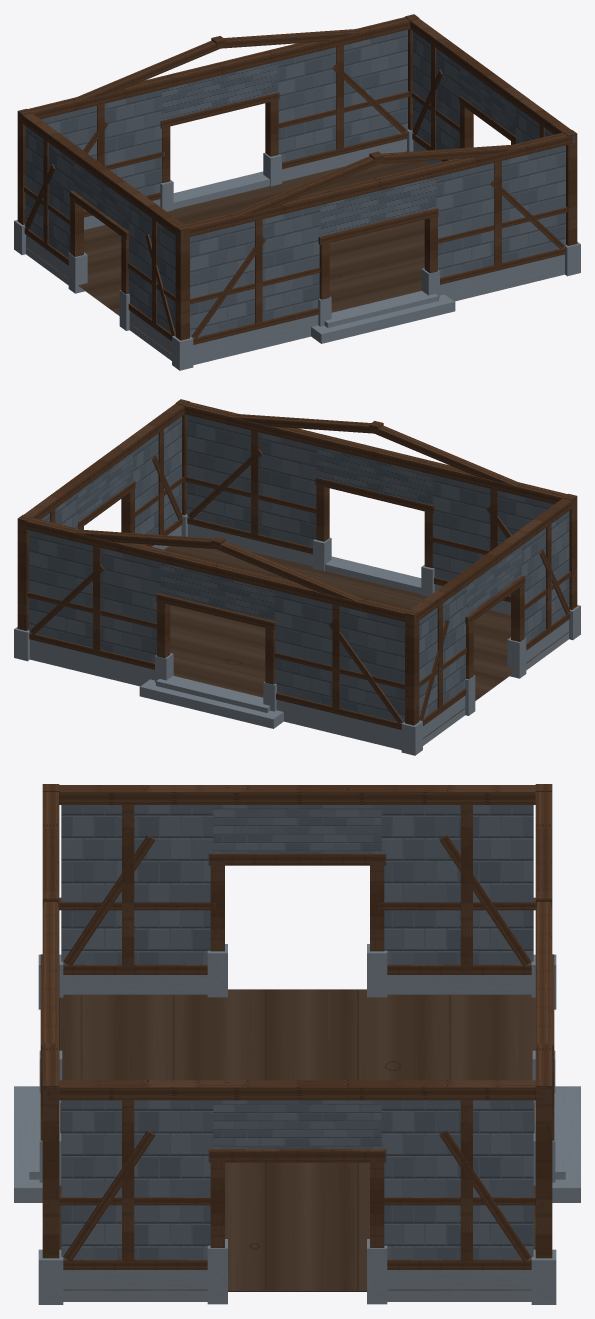
Rendered from Building5.glb.
3 views of the same model, one above another, from view 1: azimuth 30°, elevation 25°; view 2: azimuth 150°, elevation 25°; view 3: azimuth 270°, elevation 25° (orthographic). The views are drawn at different scales.
Visible parts, largest first — view 1: building5_complete; view 2: building5_complete; view 3: building5_complete.
Boxes of the visible parts, left/top/right/bottom form: building5_complete: left=14, top=14, right=580, bottom=370; building5_complete: left=14, top=399, right=580, bottom=755; building5_complete: left=14, top=784, right=580, bottom=1304.
Bounding box in the file's own units: 13.38 × 5.24 × 10.49.
Materials: 1 (1 with a texture image).
